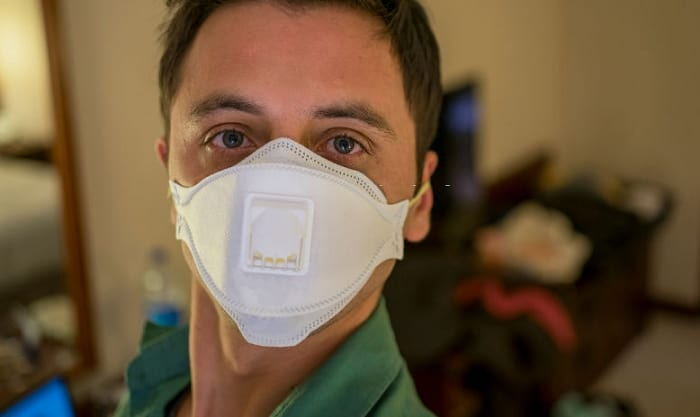n95: (171, 136, 412, 348)
